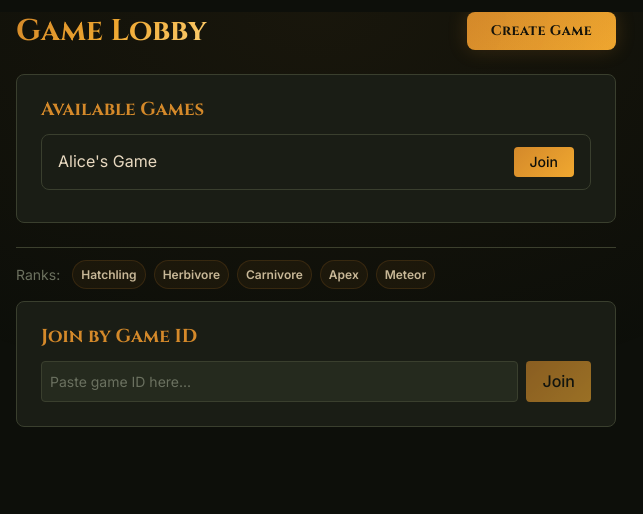
GameLobby › shows error when join fails with 400
Click the button "Join" in the row of "Alice".
click(544, 162)  # box [514,147,574,177]
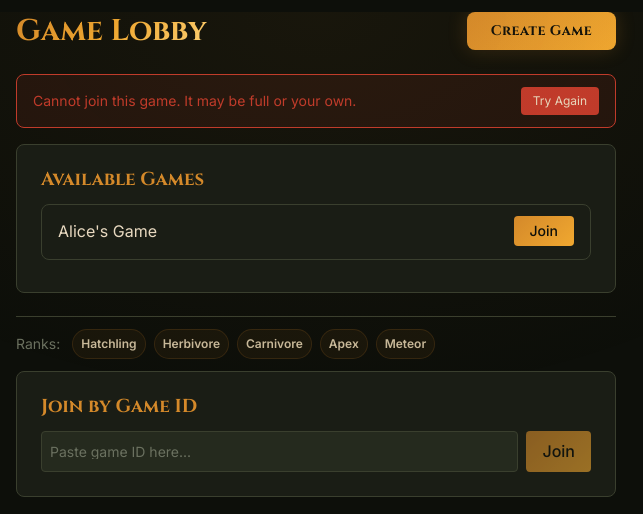
Expected: the text "Cannot join this game. It may be full or your own." is shown, [33,92,356,109]
